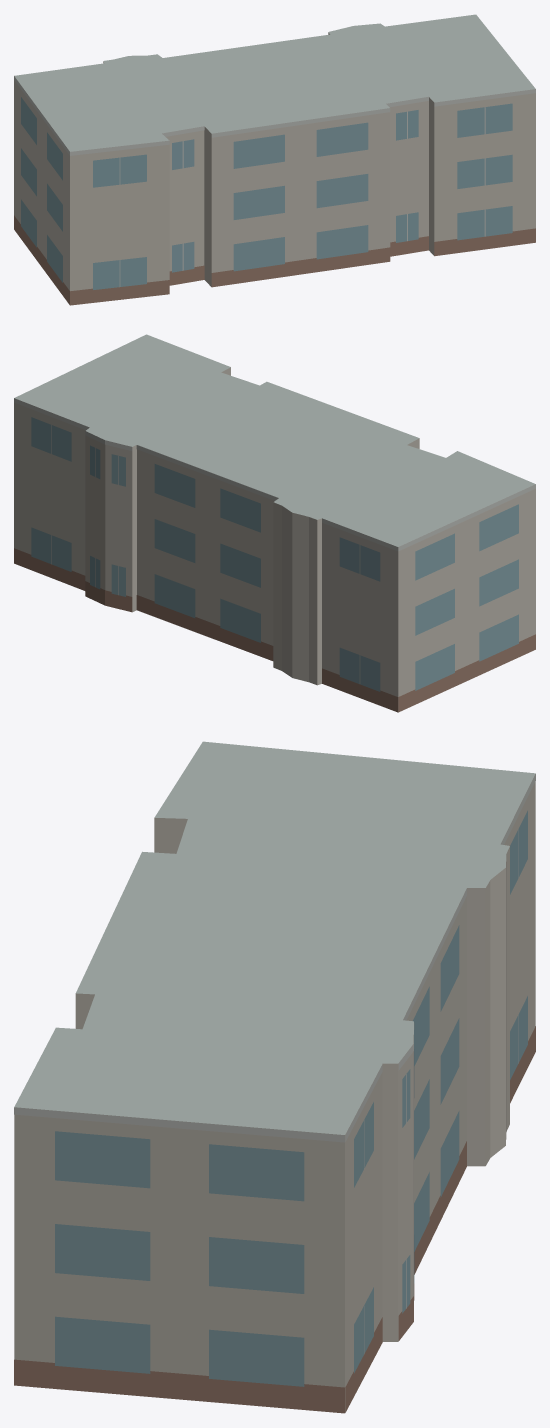
Rendered from survey-upis-32758944.glb.
3 renders of one model, top to bottom at view 1: azimuth 30°, elevation 25°; view 2: azimuth 150°, elevation 25°; view 3: azimuth 270°, elevation 25°, orthographic. The views are drawn at different scales.
Parts seen in each view (by area): view 1: survey-upis-32758944.tmp; view 2: survey-upis-32758944.tmp; view 3: survey-upis-32758944.tmp.
Boxes of the visible parts, x1=… form: survey-upis-32758944.tmp: x1=14, y1=14, x2=535, y2=305; survey-upis-32758944.tmp: x1=14, y1=334, x2=535, y2=712; survey-upis-32758944.tmp: x1=14, y1=741, x2=535, y2=1413.
Size of the model in its own units: 27.77 by 9.15 by 15.56.
